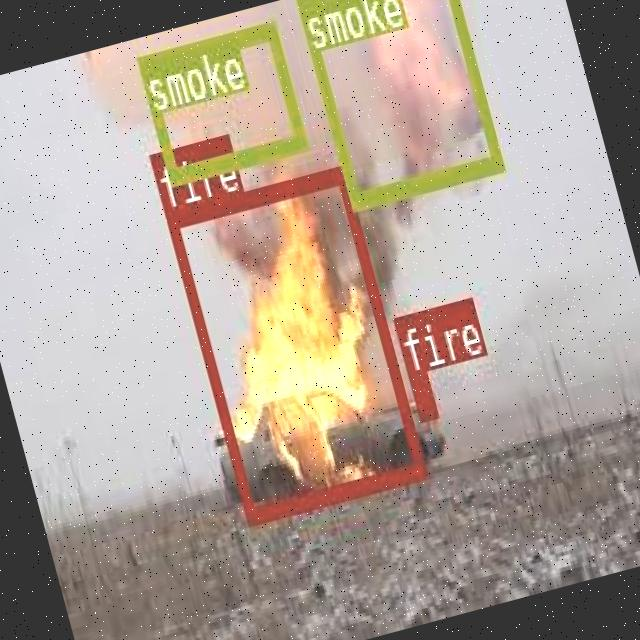fire: (162, 162, 424, 524), (404, 368, 434, 418)
smoke: (292, 0, 502, 206), (134, 19, 306, 182)
